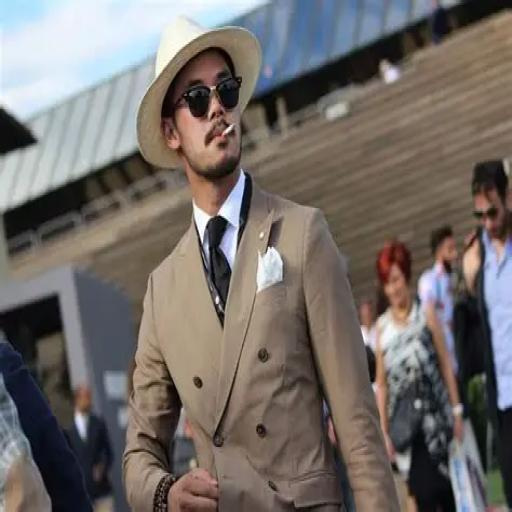person: (121, 15, 402, 510), (366, 222, 461, 512), (0, 318, 99, 512), (469, 153, 512, 512), (412, 216, 466, 430), (62, 377, 112, 498)
tie: (204, 214, 231, 309)
